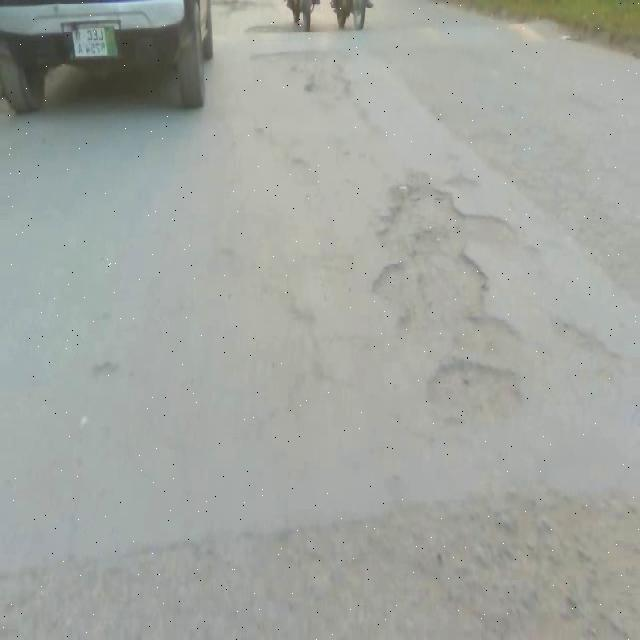pothole: (375, 191, 520, 351), (430, 364, 517, 411)
